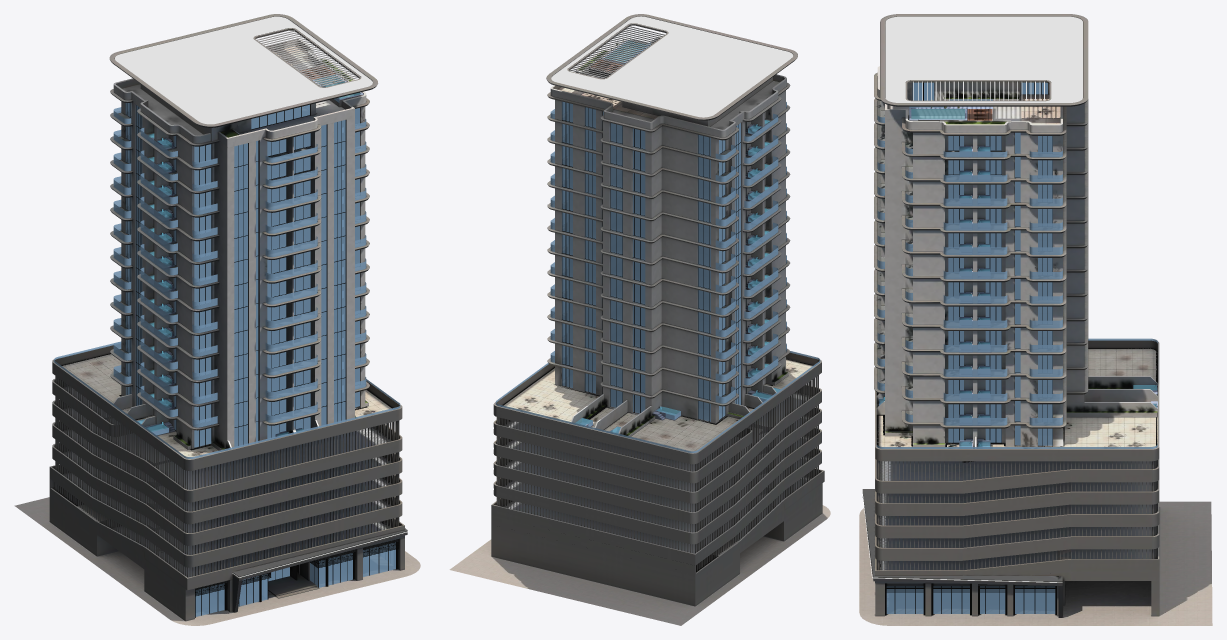
Rendered from build.glb.
3 renders of one model, left to right at view 1: azimuth 30°, elevation 25°; view 2: azimuth 150°, elevation 25°; view 3: azimuth 270°, elevation 25°, orthographic. The views are drawn at different scales.
Parts seen in each view (by area): view 1: Celestara_Residences_build; view 2: Celestara_Residences_build; view 3: Celestara_Residences_build.
Part boxes in pixels (x1,y1,x2,y2): Celestara_Residences_build: [14, 14, 420, 625]; Celestara_Residences_build: [449, 14, 830, 625]; Celestara_Residences_build: [859, 14, 1212, 625].
Size of the model in its own units: 39.32 by 74.52 by 47.21.
8 materials, 4 textured.
